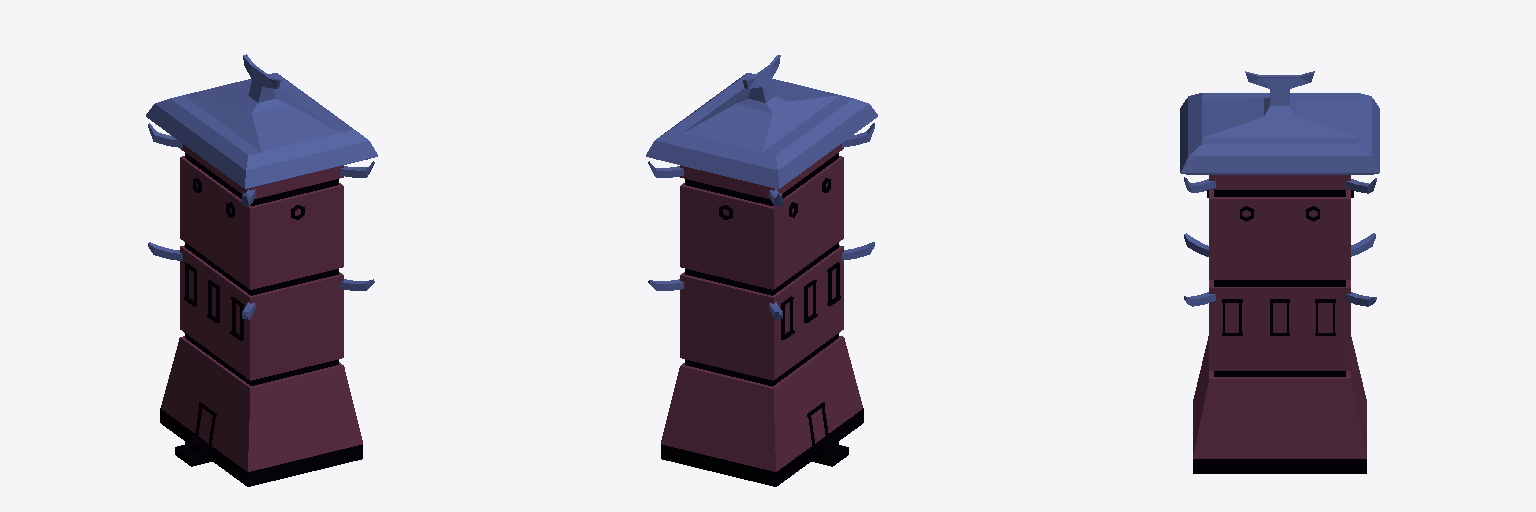
The model's file is Skycreeper_House_C.obj.
3 renders of one model, left to right at view 1: azimuth 30°, elevation 25°; view 2: azimuth 150°, elevation 25°; view 3: azimuth 270°, elevation 25°, orthographic.
Parts seen in each view (by area): view 1: Skycreeper_House_C; view 2: Skycreeper_House_C; view 3: Skycreeper_House_C.
Part boxes in pixels (x1,y1,x2,y2): Skycreeper_House_C: (146, 54, 377, 486); Skycreeper_House_C: (646, 55, 877, 486); Skycreeper_House_C: (1180, 71, 1379, 473).
Size of the model in its own units: 15.57 by 38.11 by 18.39.